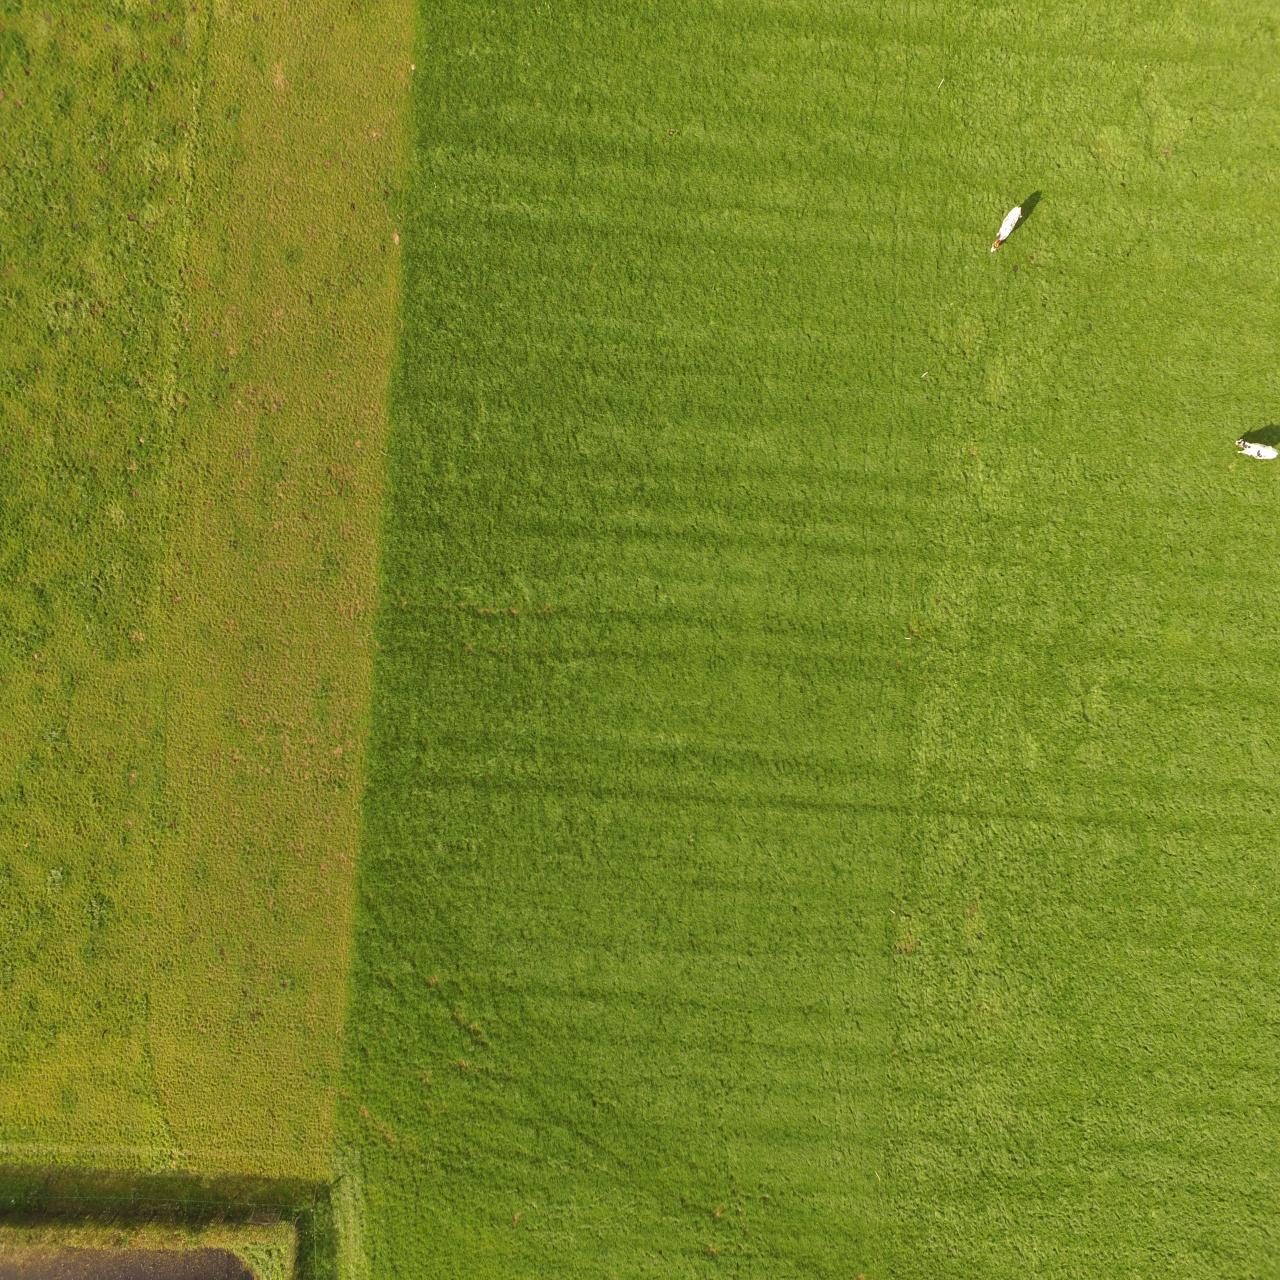cow: (986, 198, 1026, 258), (1233, 431, 1278, 464)
